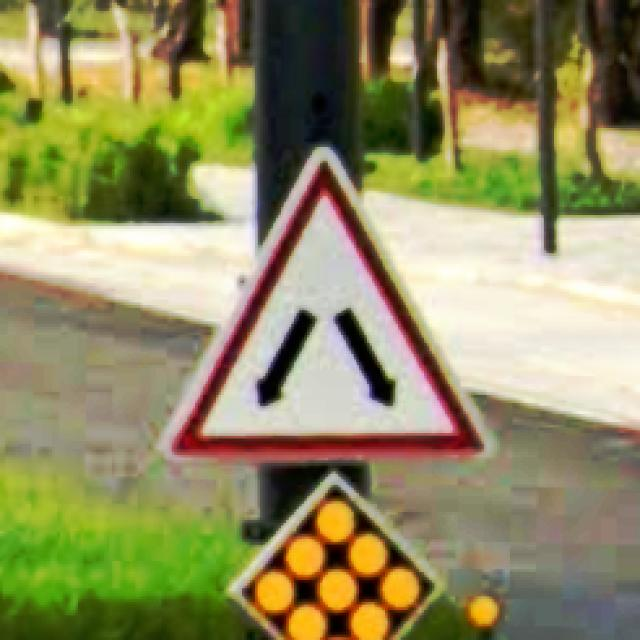diverge: (156, 139, 487, 466)
